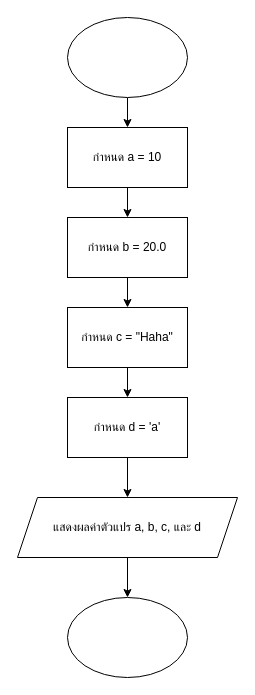
Some shapes in this 255 by 695 pixel diagram are drawn without their labels. The centre of each missing label's shape, as x and y in pixels:
End: [127,637]
Start: [127,57]
